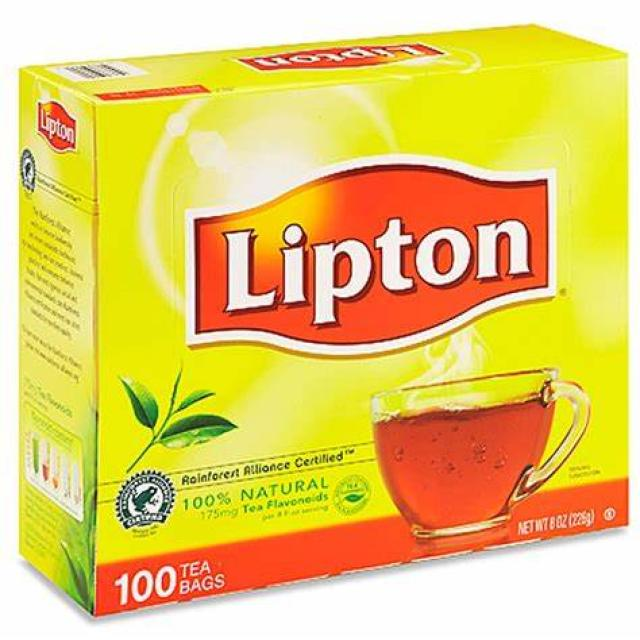Caja: (8, 18, 640, 585)
